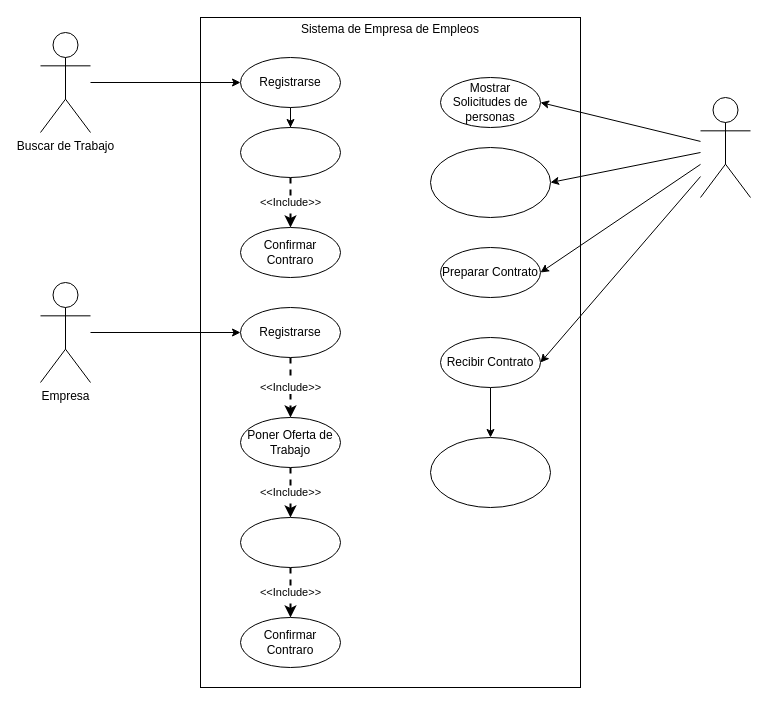
Image size: 780x705. Some labels were removed from this diagram. The shapes that lost their labels are listed below. From the top down, each one's centre as x and y in pixels, then its label:
At (290,152): "Ingresar".
At (725,147): "Administrador".
At (490,182): "Mostrar Ofertas de Trabajo de Empresas".
At (490,472): "Eliminar Solicitud de Persona y Oferta de Trabajo".
At (290,542): "Mostrar Solicitudes de Persona".
